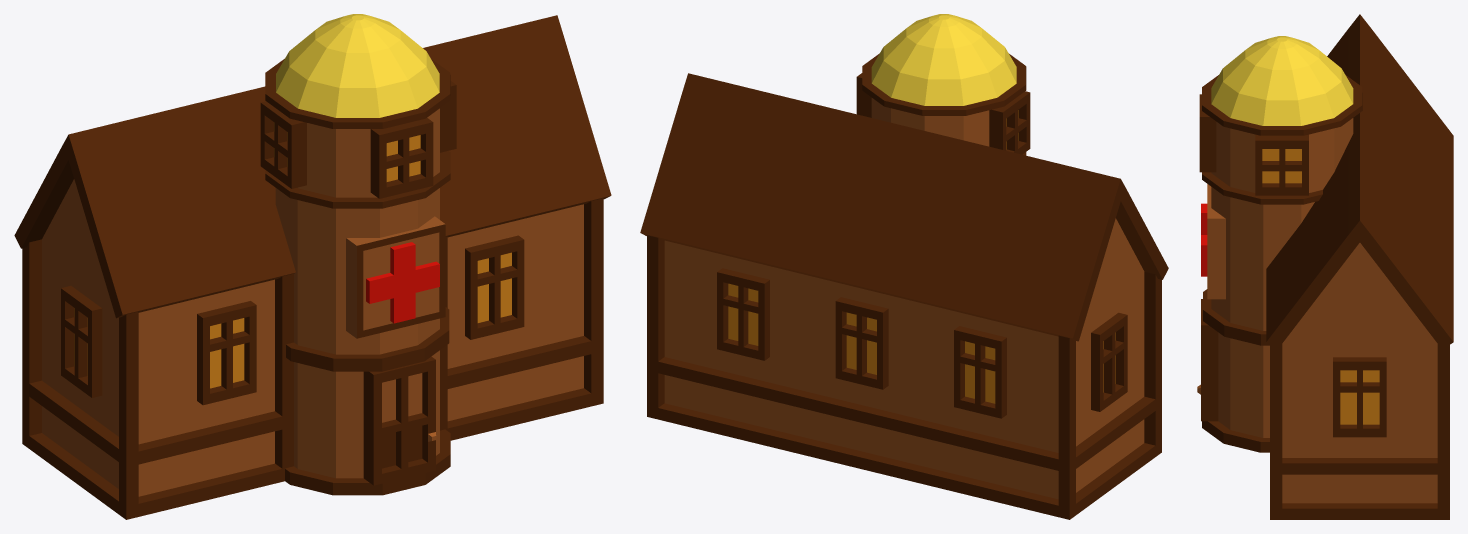
The model's file is Hospital1.fbx.
3 views of the same model, side by side, from view 1: azimuth 30°, elevation 25°; view 2: azimuth 150°, elevation 25°; view 3: azimuth 270°, elevation 25° (orthographic). The views are drawn at different scales.
Visible parts, largest first — view 1: Cube.048; view 2: Cube.048; view 3: Cube.048.
Part boxes in pixels (left/top/right/bottom): Cube.048: left=14, top=14, right=611, bottom=519; Cube.048: left=640, top=14, right=1168, bottom=519; Cube.048: left=1197, top=14, right=1453, bottom=519.
Size of the model in its own units: 195 by 168 by 103.
